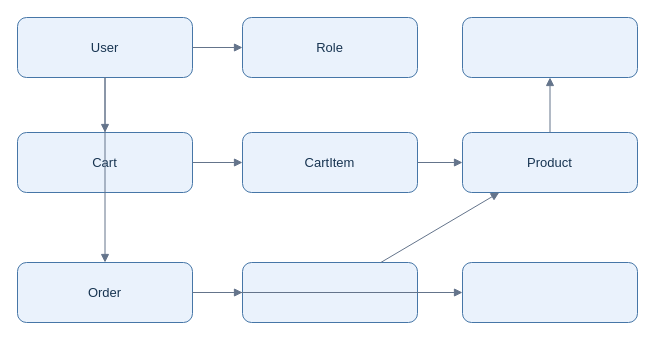
Some shapes in this 655 by 340 pixel diagram are drawn without their labels. Each missing label, with the centre of its shape:
Category: the point at 550,47
OrderAddress: the point at 550,292
OrderItem: the point at 330,292
